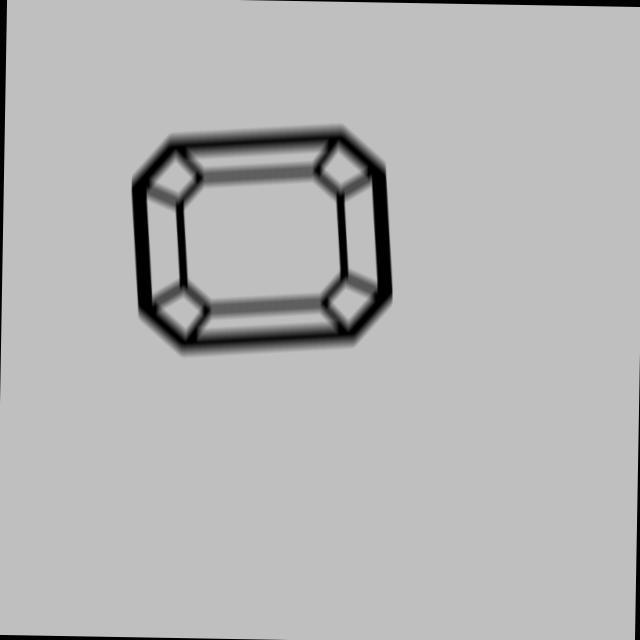emerald: (120, 108, 404, 369)
